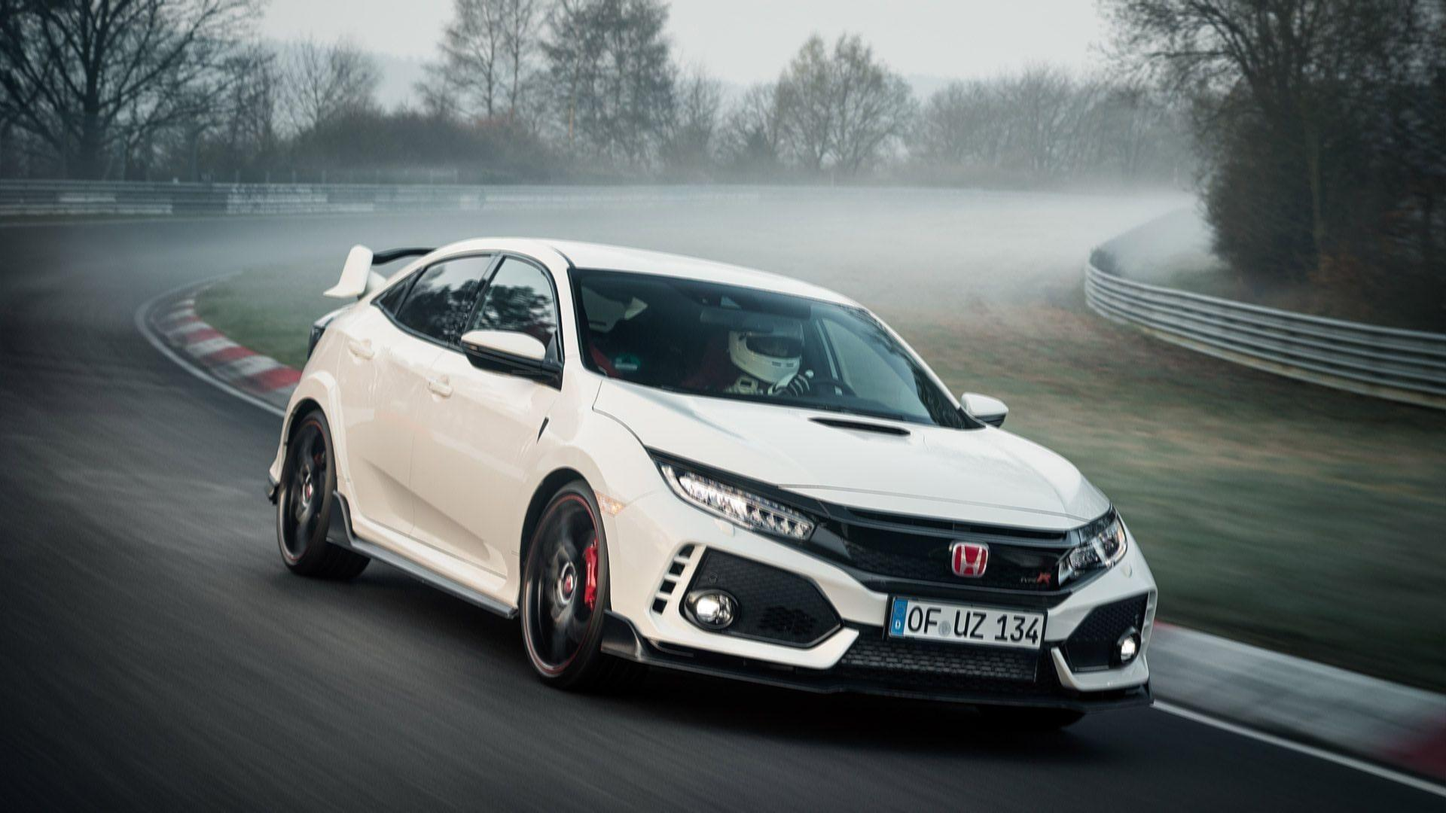Car hood: (589, 371, 1118, 534)
Driver-s door - -F-R-: (419, 243, 550, 594)
Fender - -F-R-: (506, 349, 667, 589)
Fender - -R-R-: (303, 330, 355, 512)
Front bumper: (588, 490, 1170, 720)
Headlight - -L-: (1052, 488, 1136, 589)
Headlight - -R-: (639, 438, 829, 552)
Passenger-s door - -R-R-: (336, 244, 481, 583)
Rear bumper: (262, 395, 300, 511)
Rear light - -R-: (297, 297, 342, 355)
Side bumper - -R-: (316, 483, 528, 623)
Side mirror - -L-: (949, 372, 1018, 438)
Side mirror - -R-: (457, 325, 572, 396)
